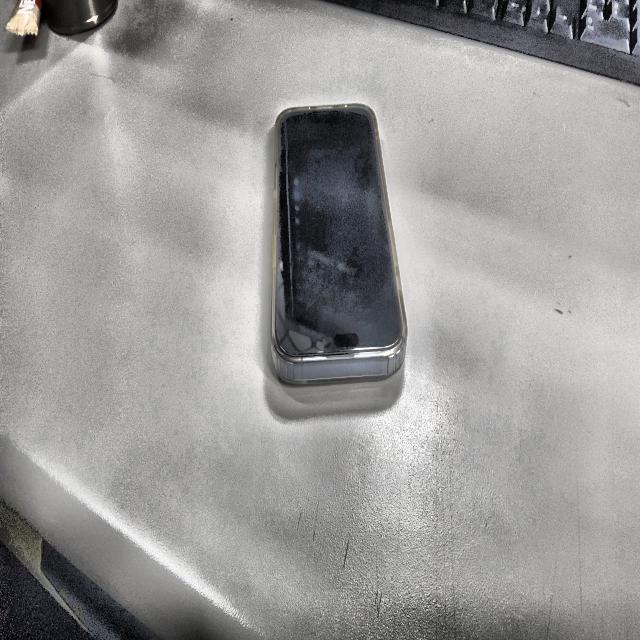Keyboard: (326, 0, 640, 86)
PHONE: (270, 104, 407, 384)
